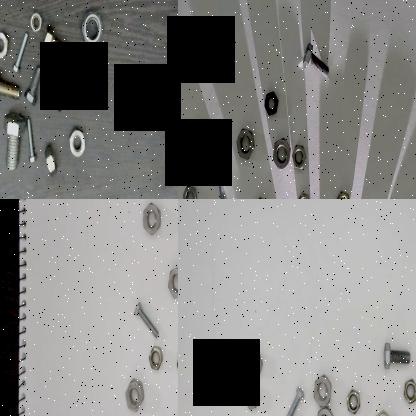Bolts: (41, 23, 77, 68), (377, 332, 414, 373), (2, 111, 26, 172), (130, 298, 160, 342), (302, 38, 330, 80), (212, 149, 228, 199), (25, 60, 43, 104), (40, 87, 68, 115), (0, 69, 22, 103), (12, 30, 29, 74), (280, 388, 306, 416), (24, 116, 36, 166)
NUTS: (121, 374, 144, 416), (80, 11, 104, 51), (310, 372, 336, 408), (192, 121, 212, 162), (140, 203, 163, 237), (66, 124, 86, 162), (236, 124, 256, 162), (270, 138, 290, 172), (43, 141, 59, 179), (344, 383, 361, 416), (147, 346, 167, 373), (241, 382, 259, 412), (291, 140, 306, 174), (262, 92, 280, 120), (401, 378, 416, 406), (79, 90, 99, 110), (249, 350, 262, 380), (166, 268, 178, 300), (181, 180, 198, 199), (30, 8, 42, 34), (0, 28, 8, 65), (315, 402, 336, 416), (371, 404, 395, 416), (334, 186, 352, 199), (296, 190, 311, 199)
